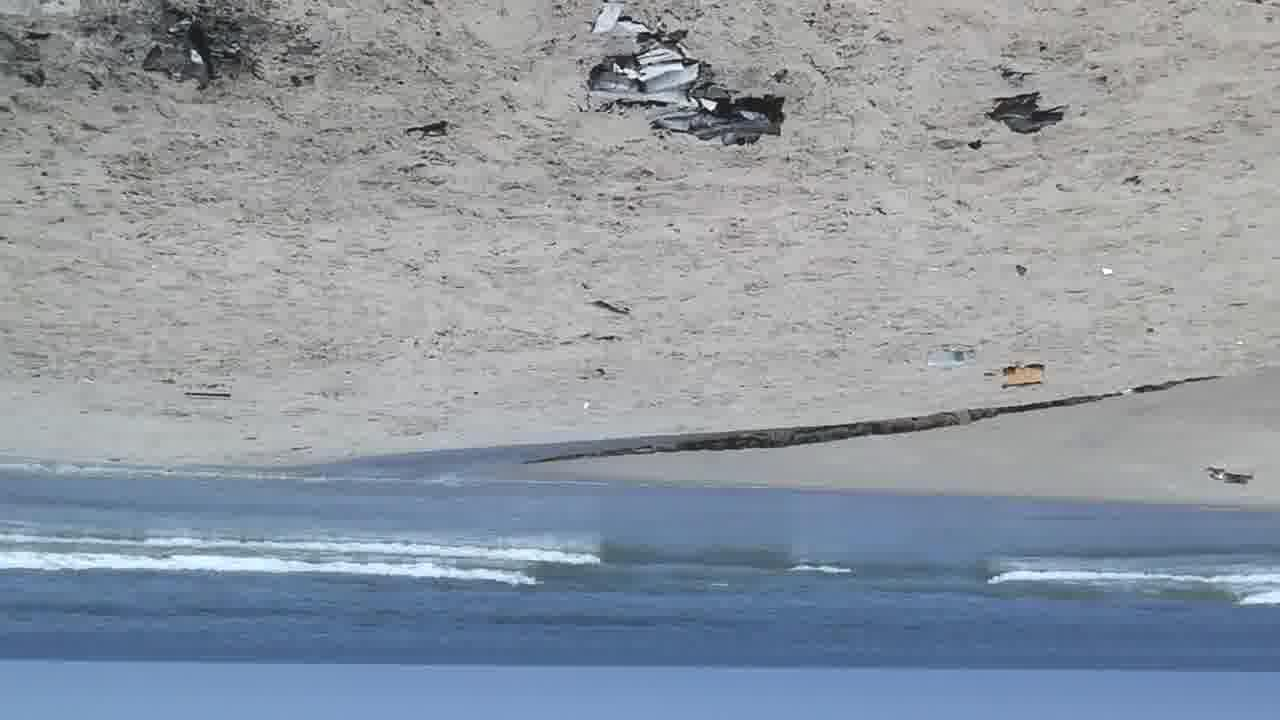large collection of objects: (7, 6, 256, 93), (1207, 463, 1256, 488)
obj: (580, 8, 791, 146), (983, 89, 1066, 137), (1001, 364, 1053, 392), (401, 115, 454, 140), (925, 347, 975, 369), (594, 302, 626, 317), (183, 393, 232, 401), (1102, 266, 1112, 276), (584, 400, 592, 410)
sand/background: (1, 460, 1279, 719)
